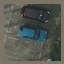car: (17, 26, 48, 42), (23, 6, 49, 22)
